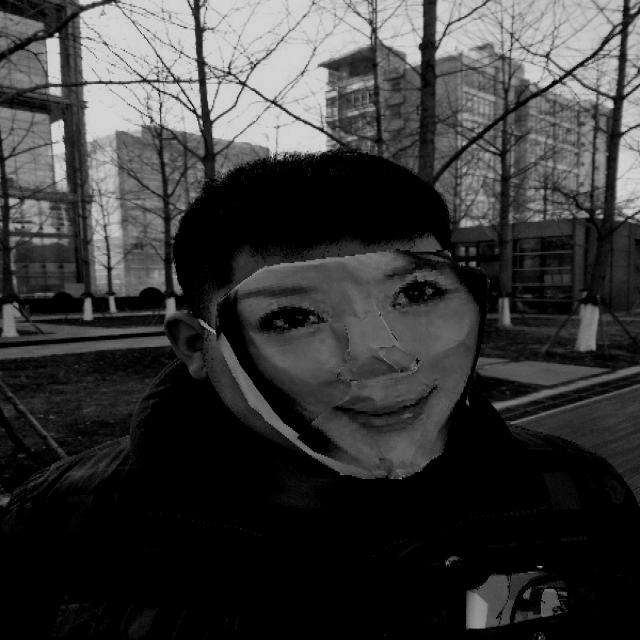fake: (164, 143, 504, 504)
